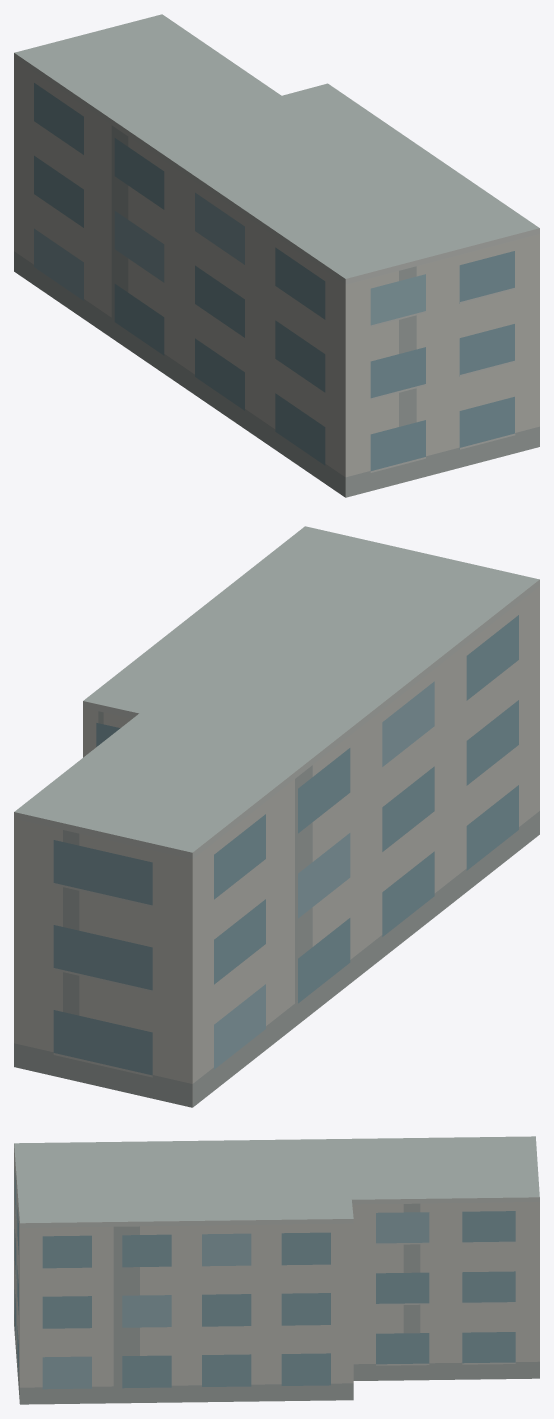
Rendered from survey-upis-33023727.glb.
3 views of the same model, one above another, from view 1: azimuth 30°, elevation 25°; view 2: azimuth 150°, elevation 25°; view 3: azimuth 270°, elevation 25° (orthographic). The views are drawn at different scales.
Parts seen in each view (by area): view 1: survey-upis-33023727.tmp; view 2: survey-upis-33023727.tmp; view 3: survey-upis-33023727.tmp.
Boxes of the visible parts, left/top/right/bottom form: survey-upis-33023727.tmp: left=14, top=14, right=539, bottom=497; survey-upis-33023727.tmp: left=14, top=526, right=539, bottom=1107; survey-upis-33023727.tmp: left=14, top=1136, right=539, bottom=1404.
Bounding box in the file's own units: 9.41 × 9.15 × 24.06.
